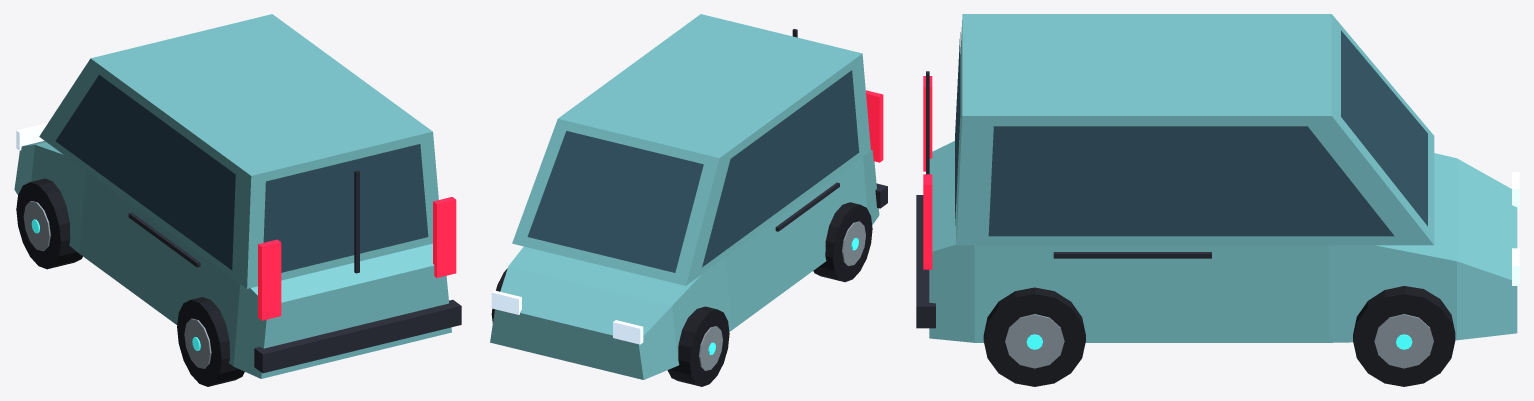
Rendered from doblo.glb.
The picture shows the model from 3 angles, left to right: view 1: azimuth 30°, elevation 25°; view 2: azimuth 150°, elevation 25°; view 3: azimuth 270°, elevation 25°; orthographic projection. The views are drawn at different scales.
Parts seen in each view (by area): view 1: Cabin shell, Van body, Left window, Rear window, Rear bumper, Tire, Tire.001, Vertical tail light, Vertical tail light.001, Wheel rim.001, Wheel rim, Rear door seam (+2 smaller); view 2: Cabin shell, Van body, Windshield, Left window, Tire, Tire.001, Vertical tail light, Wheel rim, Wheel rim.001, Headlamp, Headlamp.001, Sliding door rail; view 3: Cabin shell, Van body, Right window, Windshield, Tire.002, Tire.003, Wheel rim.002, Wheel rim.003, Rear bumper, Sliding door rail.001, Vertical tail light.001, Vertical tail light (+1 smaller).
Part boxes in pixels (x1,y1,x2,y2): Cabin shell: (39,14,438,288); Van body: (14,141,451,378); Left window: (56,74,235,270); Rear window: (263,144,428,272); Rear bumper: (254,299,461,373); Tire: (16,178,82,269); Tire.001: (177,297,244,386); Vertical tail light: (258,239,281,320); Vertical tail light.001: (433,197,456,277); Wheel rim.001: (184,318,211,368); Wheel rim: (23,201,50,251); Rear door seam: (354,170,359,273); Cabin shell: (512,14,870,285); Van body: (490,150,879,379); Windshield: (527,131,703,272); Left window: (702,70,859,267); Tire: (667,306,729,386); Tire.001: (813,202,872,282); Vertical tail light: (866,90,883,162); Wheel rim: (699,326,722,370); Wheel rim.001: (842,221,865,265); Headlamp: (613,320,643,344); Headlamp.001: (491,290,521,314); Sliding door rail: (775,182,839,231); Cabin shell: (956,14,1434,245); Van body: (929,141,1517,342); Right window: (988,126,1394,236); Windshield: (1341,30,1427,226); Tire.002: (1353,286,1455,386); Tire.003: (983,287,1085,386); Wheel rim.002: (1374,314,1433,368); Wheel rim.003: (1005,314,1064,368); Rear bumper: (916,195,935,328); Sliding door rail.001: (1053,252,1211,258); Vertical tail light.001: (923,174,932,269); Vertical tail light: (923,76,932,171).
Size of the model in its own units: 2.02 by 1.9 by 4.
